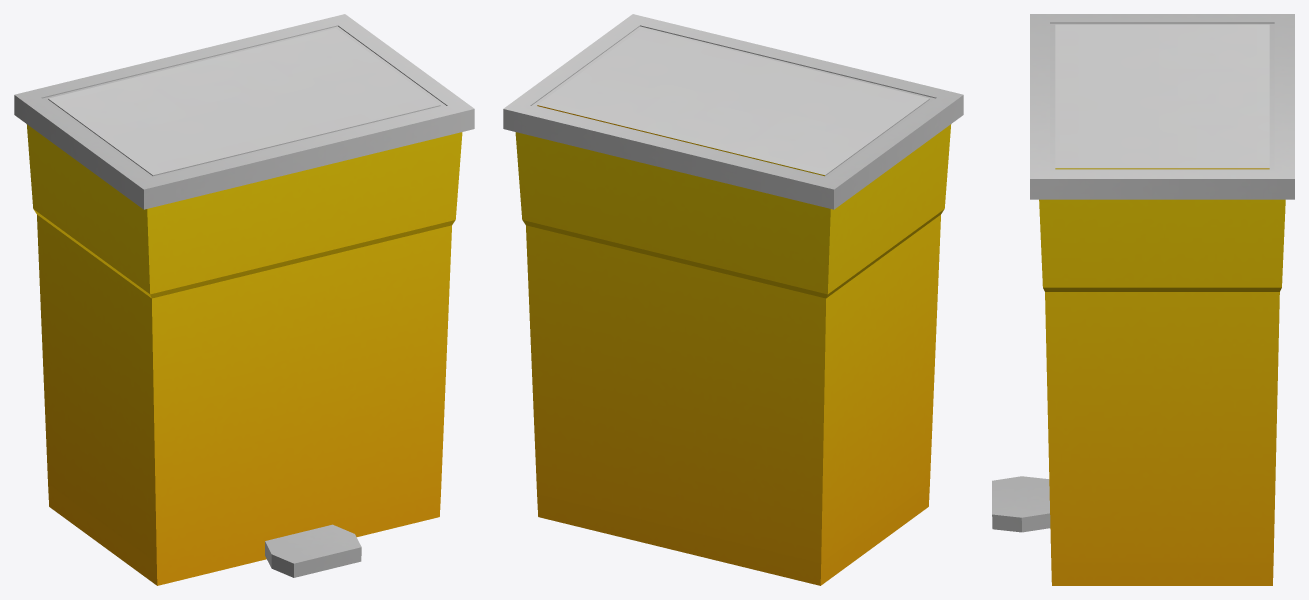
File: biohazard_bin.fbx
The picture shows the model from 3 angles, left to right: view 1: azimuth 30°, elevation 25°; view 2: azimuth 150°, elevation 25°; view 3: azimuth 270°, elevation 25°; orthographic projection. The views are drawn at different scales.
Parts seen in each view (by area): view 1: biohazard_bin; view 2: biohazard_bin; view 3: biohazard_bin.
Part boxes in pixels (x1=…): biohazard_bin: x1=14, y1=14, x2=474, y2=585; biohazard_bin: x1=503, y1=14, x2=963, y2=585; biohazard_bin: x1=992, y1=14, x2=1294, y2=585.
Size of the model in its own units: 0.2388 by 0.2829 by 0.1852.
